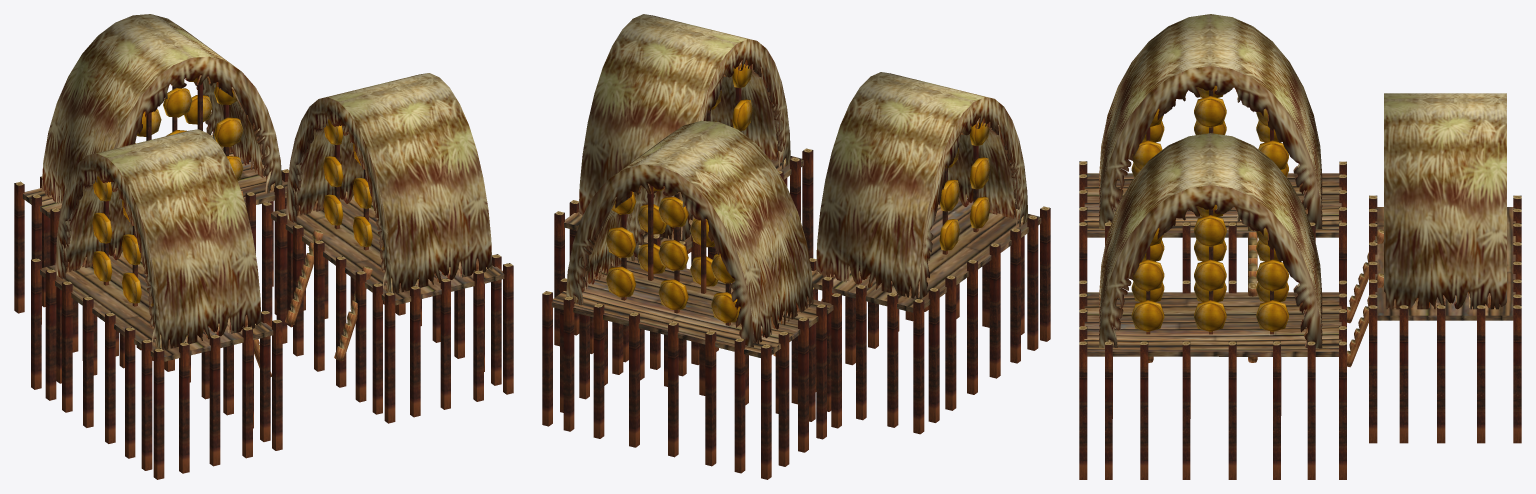
Rendered from odeon.dae.
The picture shows the model from 3 angles, left to right: view 1: azimuth 30°, elevation 25°; view 2: azimuth 150°, elevation 25°; view 3: azimuth 270°, elevation 25°; orthographic projection. The views are drawn at different scales.
Visible parts, largest first — view 1: odeon; view 2: odeon; view 3: odeon.
Boxes of the visible parts, left/top/right/bottom form: odeon: left=14, top=14, right=513, bottom=479; odeon: left=542, top=14, right=1050, bottom=479; odeon: left=1079, top=14, right=1521, bottom=479.
Size of the model in its own units: 19.25 by 19.58 by 14.09.
